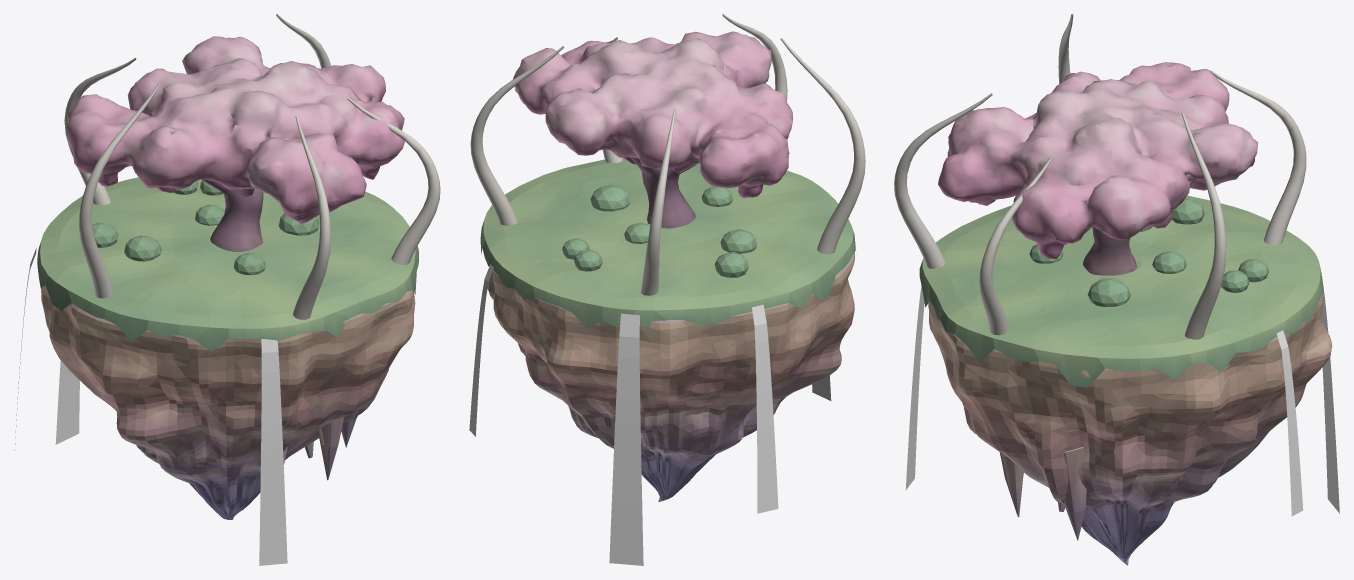
Rendered from hero-island.glb.
The picture shows the model from 3 angles, left to right: view 1: azimuth 30°, elevation 25°; view 2: azimuth 150°, elevation 25°; view 3: azimuth 270°, elevation 25°; orthographic projection. The views are drawn at different scales.
Parts seen in each view (by area): view 1: HeroIsland, HeroFalls; view 2: HeroIsland, HeroFalls; view 3: HeroIsland, HeroFalls.
Boxes of the visible parts, <box> form: HeroIsland: <box>37,14,440,519</box>; HeroFalls: <box>14,248,287,565</box>; HeroIsland: <box>470,14,865,501</box>; HeroFalls: <box>469,264,831,565</box>; HeroIsland: <box>894,14,1332,565</box>; HeroFalls: <box>905,277,1339,516</box>.
Bounding box in the file's own units: 63.8 × 85.48 × 68.92.
